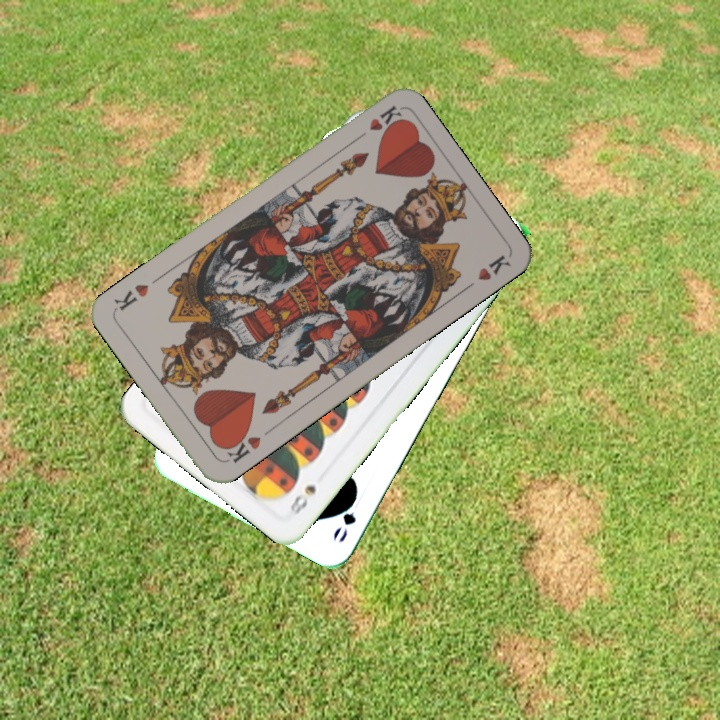GO: (329, 488, 361, 545)
HK: (349, 101, 404, 145), (220, 427, 264, 466)
S8: (286, 480, 319, 518)
